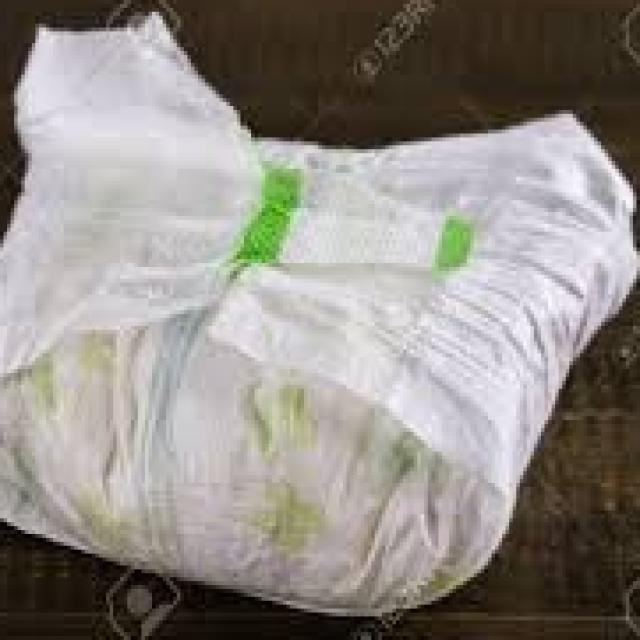organic: (19, 18, 598, 603)
